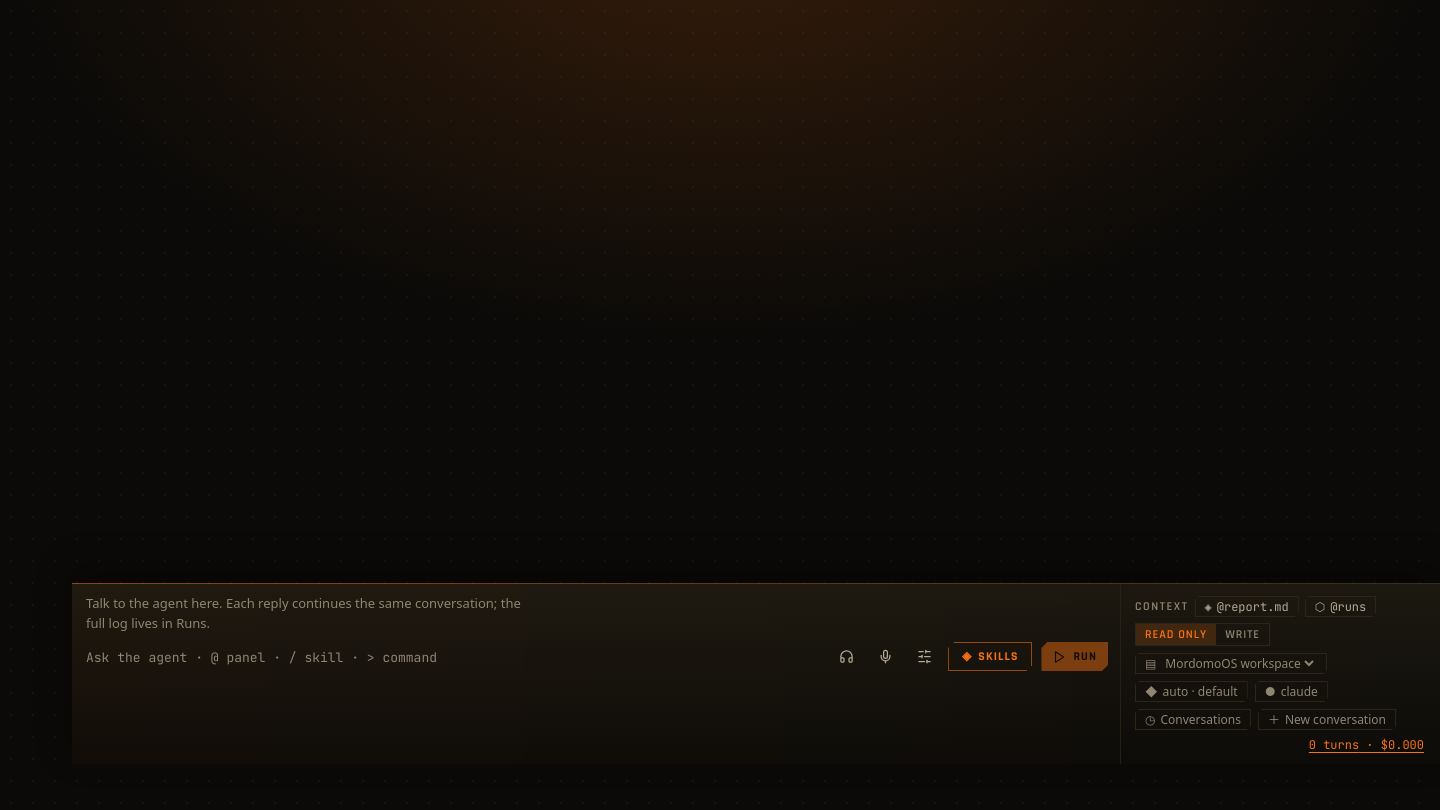
Console › writes a chip's reference into the draft and lights the chip
Step 1. Click the button named "Context and controls" → (924, 656), box [909,641,939,671]
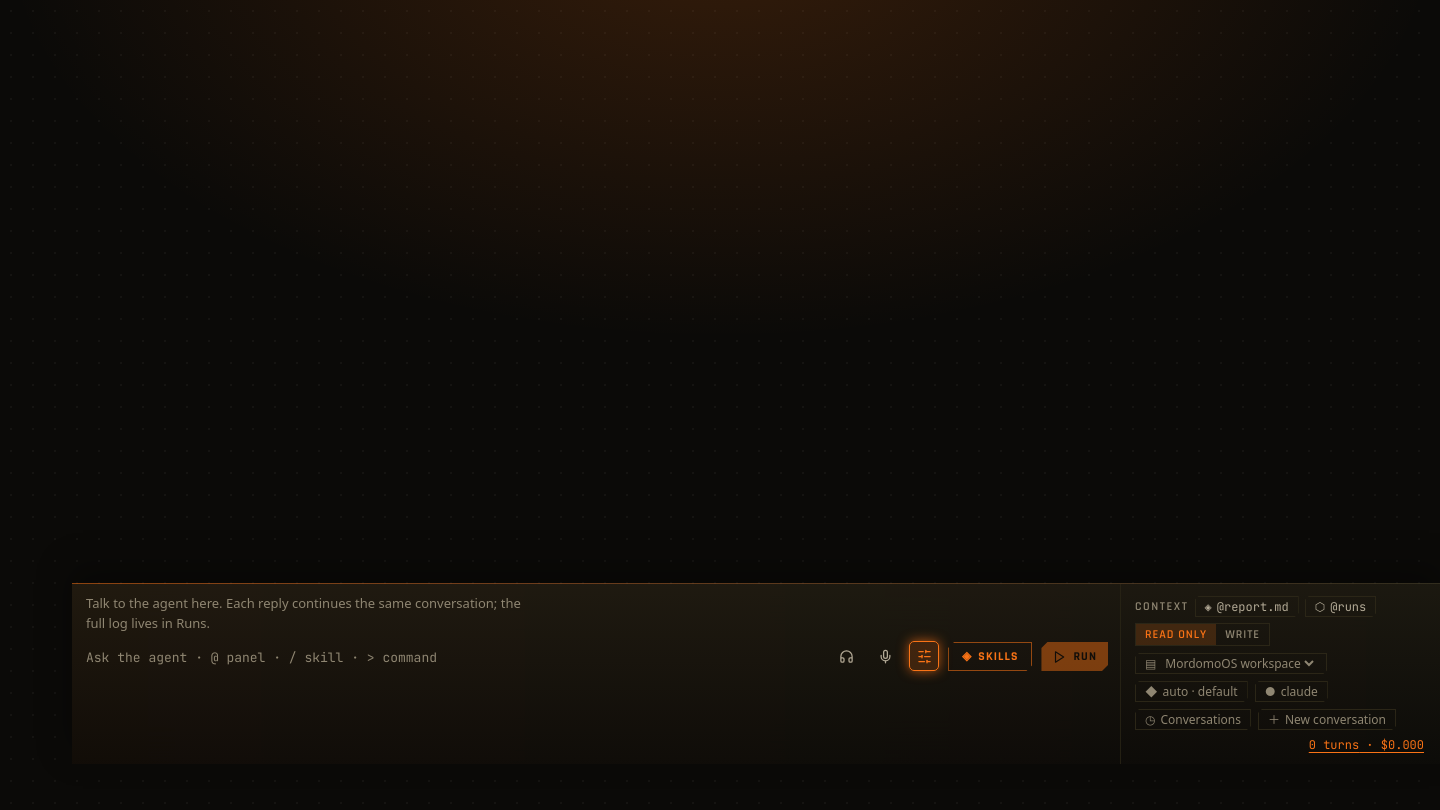
Step 2. Click the button "⬡ @runs" → (1341, 606), box [1305,596,1376,617]
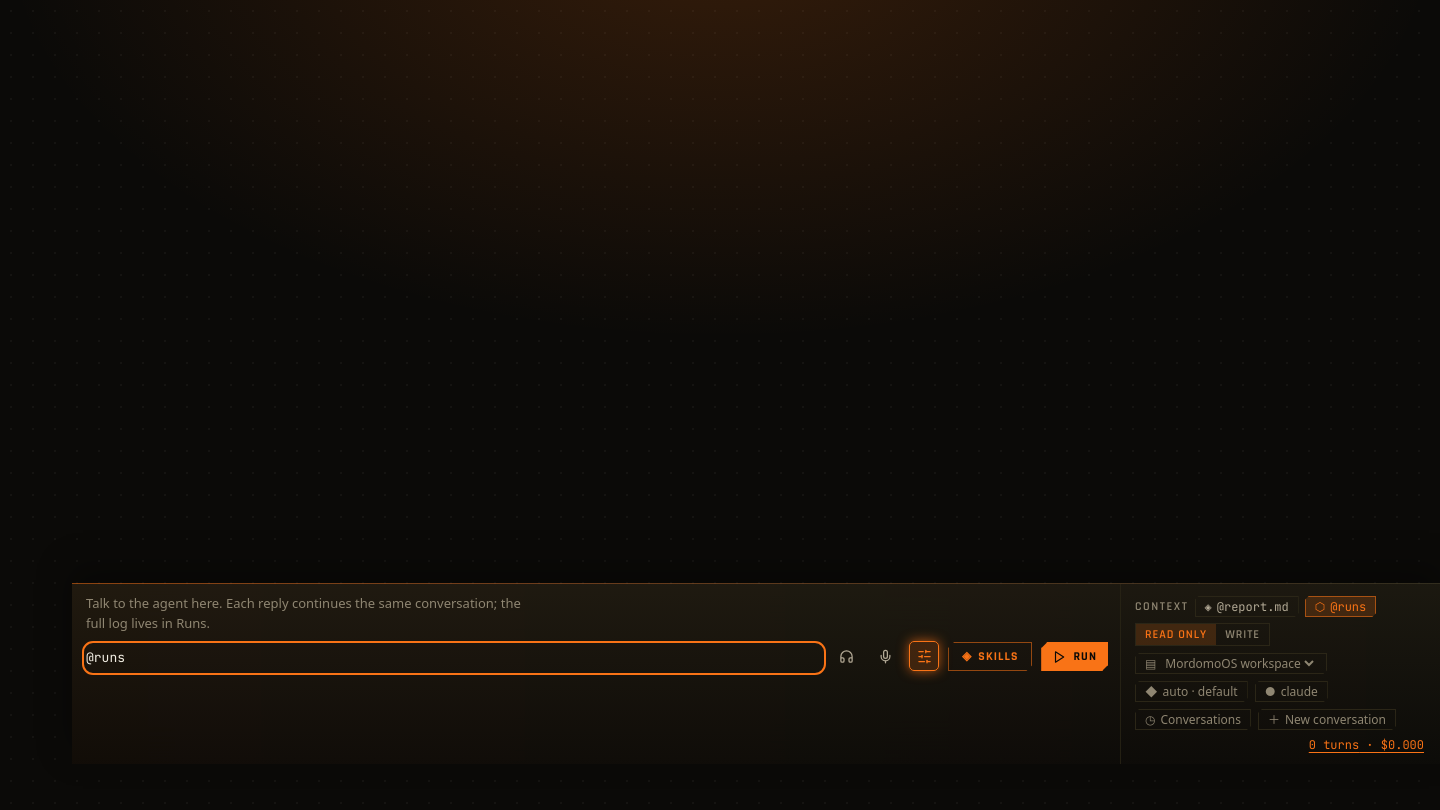
Expected: the text box holds "@runs ", [86,645,822,671]
